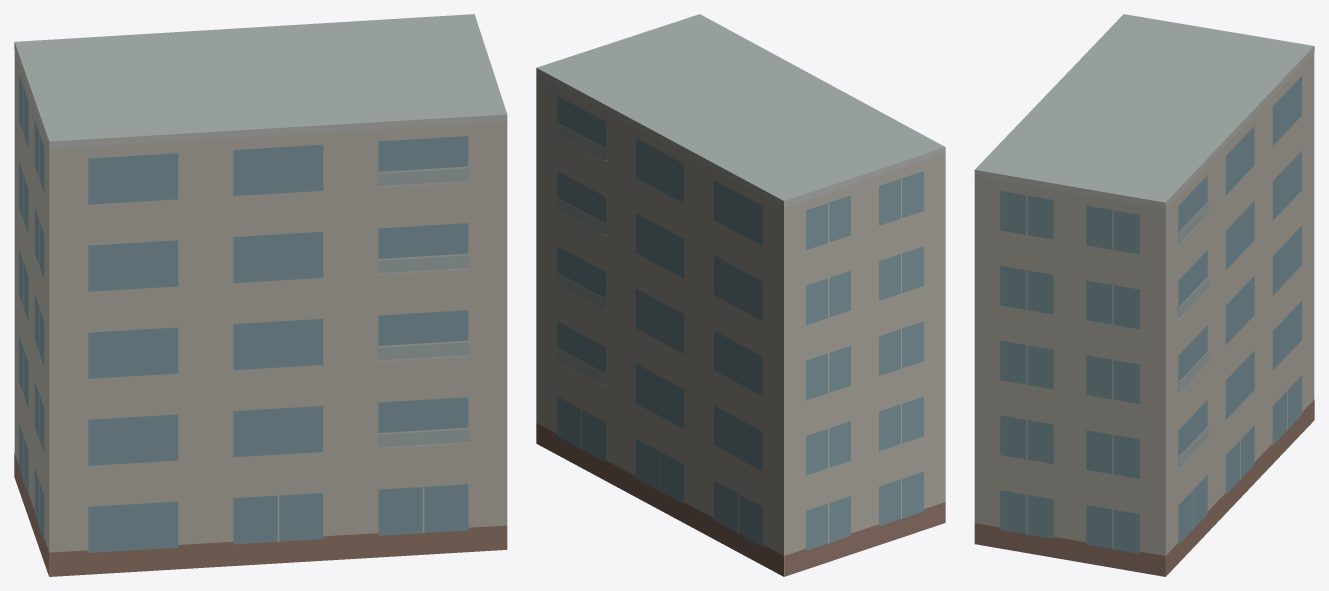
File: survey-upis-32878824.glb
The picture shows the model from 3 angles, left to right: view 1: azimuth 30°, elevation 25°; view 2: azimuth 150°, elevation 25°; view 3: azimuth 270°, elevation 25°; orthographic projection. The views are drawn at different scales.
Parts seen in each view (by area): view 1: survey-upis-32878824.tmp; view 2: survey-upis-32878824.tmp; view 3: survey-upis-32878824.tmp.
Boxes of the visible parts, bbox=[...] form: survey-upis-32878824.tmp: bbox=[14, 14, 507, 576]; survey-upis-32878824.tmp: bbox=[536, 14, 945, 576]; survey-upis-32878824.tmp: bbox=[974, 14, 1314, 576].
Size of the model in its own units: 15.58 by 14.4 by 11.86.
